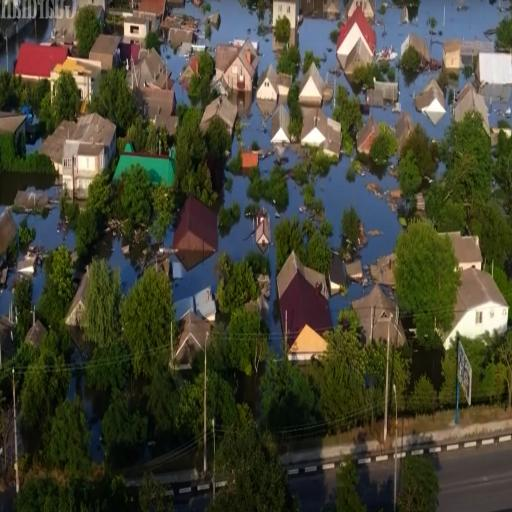flood: (174, 169, 257, 299), (175, 174, 260, 299), (314, 154, 402, 264), (231, 97, 310, 218), (376, 0, 506, 50), (385, 61, 451, 138), (207, 0, 277, 71), (67, 347, 109, 462), (298, 16, 353, 94), (258, 199, 281, 350), (98, 235, 141, 288), (161, 38, 191, 103), (28, 208, 74, 249), (0, 175, 52, 211), (8, 22, 48, 68), (172, 1, 210, 37), (330, 284, 362, 322), (363, 103, 401, 125), (491, 100, 512, 118), (262, 433, 262, 442)
house: (39, 110, 116, 204), (274, 250, 331, 367), (435, 268, 509, 356), (171, 198, 217, 260), (336, 5, 377, 67), (11, 42, 69, 84), (359, 287, 401, 341), (172, 308, 210, 366), (223, 37, 259, 97), (198, 96, 238, 142), (50, 55, 96, 95), (475, 48, 512, 90), (132, 46, 170, 86), (88, 34, 121, 76), (454, 84, 488, 122), (66, 270, 88, 328), (297, 62, 324, 108), (452, 232, 484, 268), (302, 107, 326, 145), (416, 83, 444, 113), (356, 118, 378, 154), (270, 0, 300, 26), (271, 106, 290, 146), (442, 38, 462, 74), (123, 15, 149, 41), (258, 66, 276, 98)
